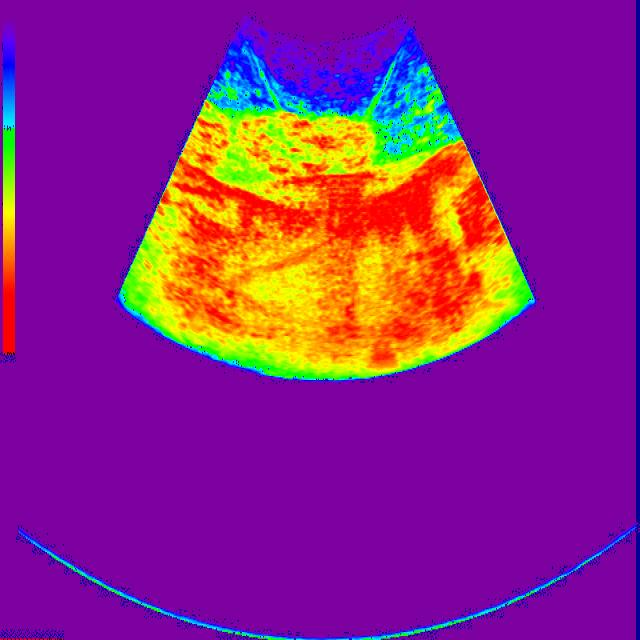lamb muscle pre: (243, 114, 373, 178)
